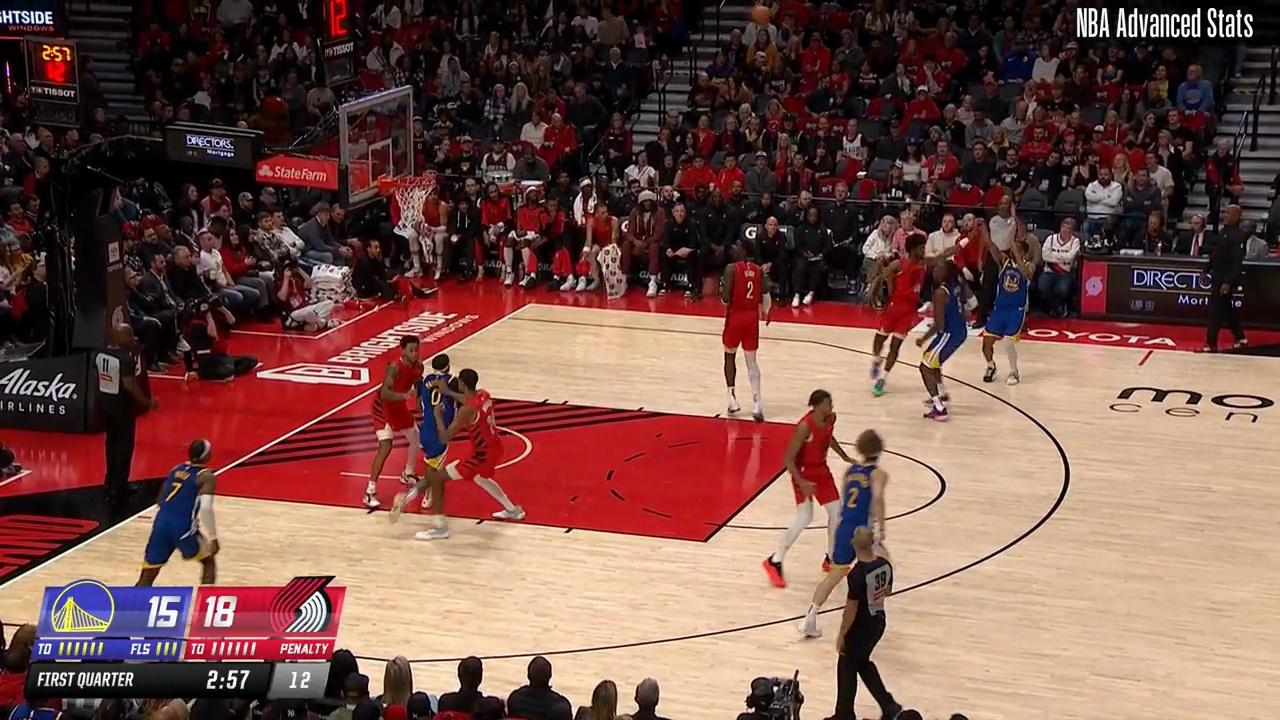basketball: (751, 4, 773, 27)
